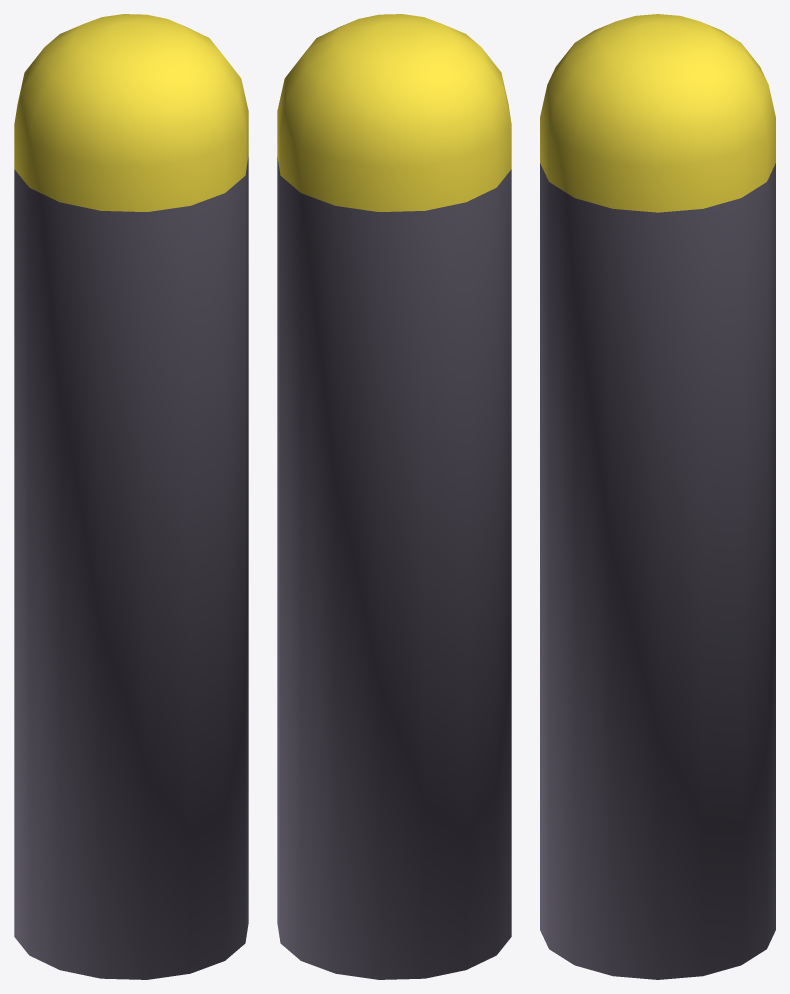
Rendered from Barrier_1.fbx.
3 renders of one model, left to right at view 1: azimuth 30°, elevation 25°; view 2: azimuth 150°, elevation 25°; view 3: azimuth 270°, elevation 25°, orthographic.
Visible parts, largest first — view 1: Barrier_1; view 2: Barrier_1; view 3: Barrier_1.
Part boxes in pixels (x1,y1,x2,y2): Barrier_1: (14,14,248,979); Barrier_1: (277,14,511,979); Barrier_1: (540,14,775,979).
Bounding box in the file's own units: 28.87 × 121 × 28.87.
